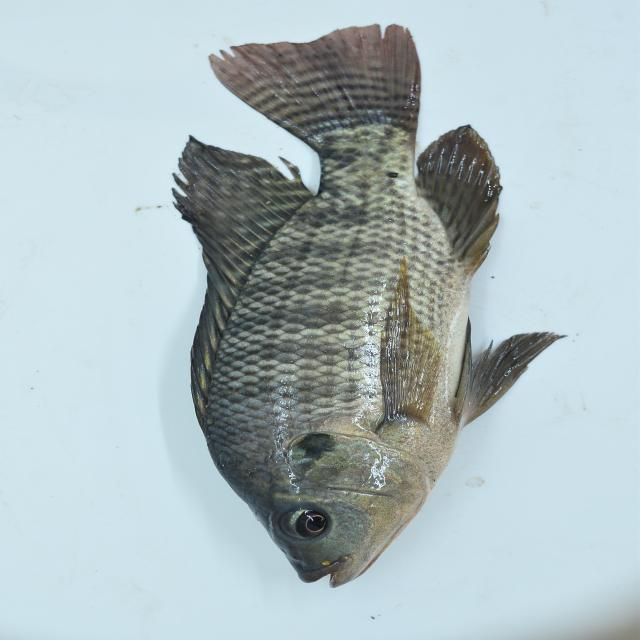Healthy Fish: (169, 26, 563, 587)
